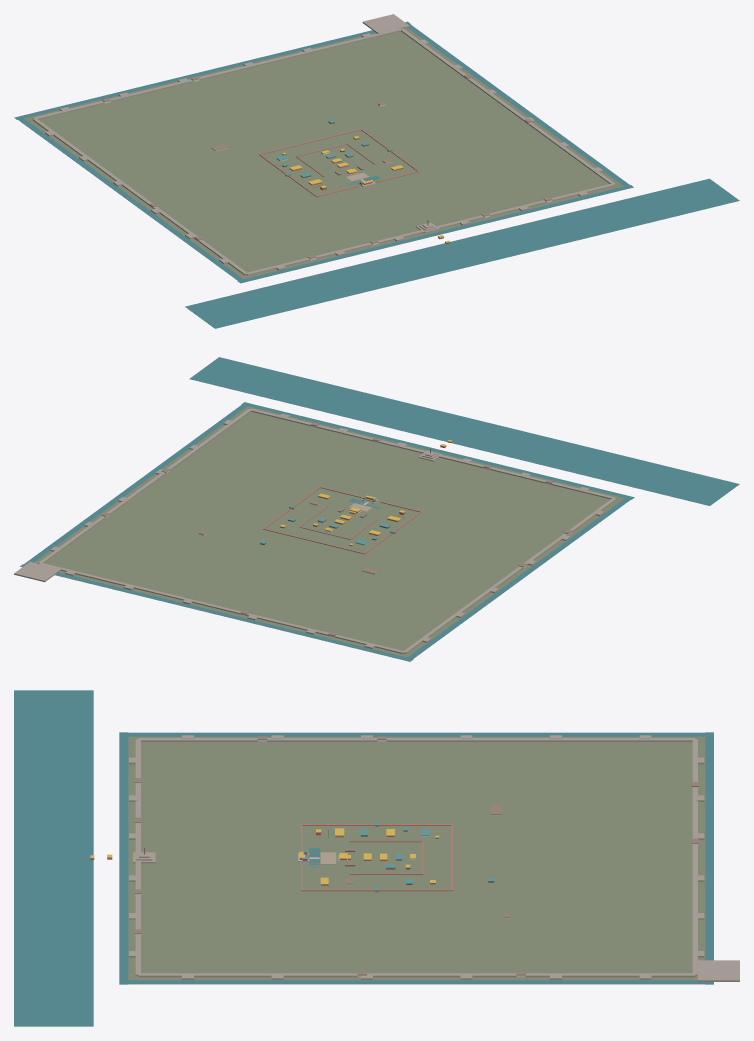
File: hue_1880_citadel.gltf
The picture shows the model from 3 angles, top to bottom: view 1: azimuth 30°, elevation 25°; view 2: azimuth 150°, elevation 25°; view 3: azimuth 270°, elevation 25°; orthographic projection. The views are drawn at different scales.
Visible parts, largest first — view 1: Citadel_Root; view 2: Citadel_Root; view 3: Citadel_Root.
Part boxes in pixels (<box>): Citadel_Root: <box>14,14,739,328</box>; Citadel_Root: <box>14,357,739,661</box>; Citadel_Root: <box>14,690,739,1026</box>.
Bounding box in the file's own units: 3200 × 47.9 × 2920.
